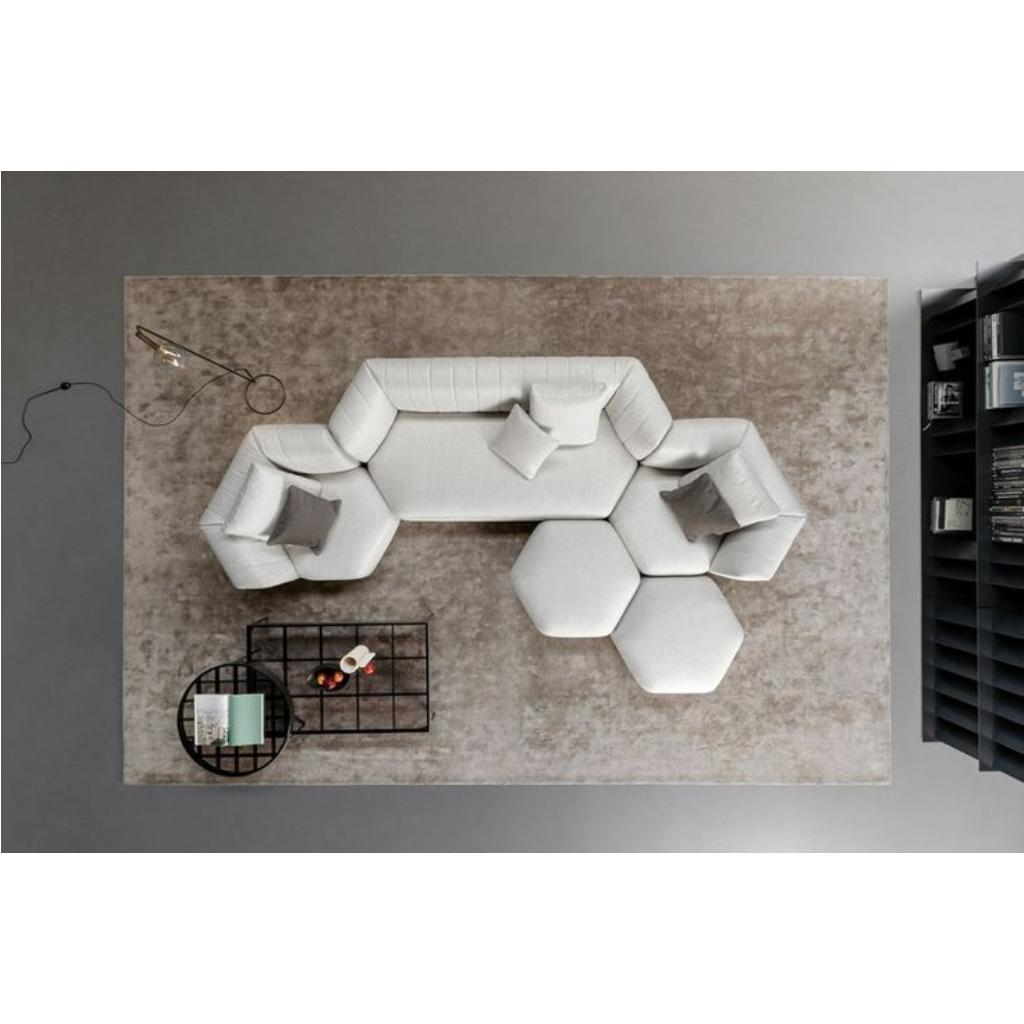bookshelf: (920, 260, 1020, 786)
chair: (640, 404, 804, 580), (200, 422, 364, 590)
coffee table: (176, 624, 432, 778)
floor lamp: (240, 373, 286, 415)
ottoman: (624, 586, 738, 696), (512, 524, 620, 632)
rug: (122, 276, 890, 788)
sofa: (368, 356, 636, 518)
